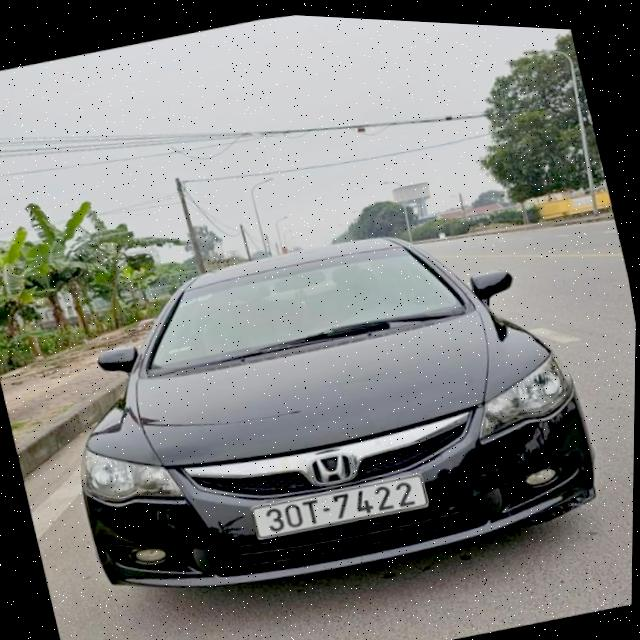car: (48, 188, 613, 636)
plate: (249, 463, 430, 550)
